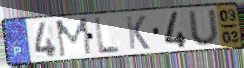4: (163, 10, 190, 50), (33, 20, 58, 60)
K: (124, 15, 151, 51)
L: (94, 16, 123, 56)
M: (54, 16, 94, 59)
U: (186, 8, 221, 47)
